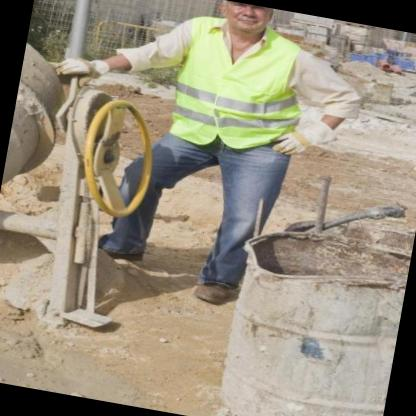helmet: (202, 0, 285, 42)
